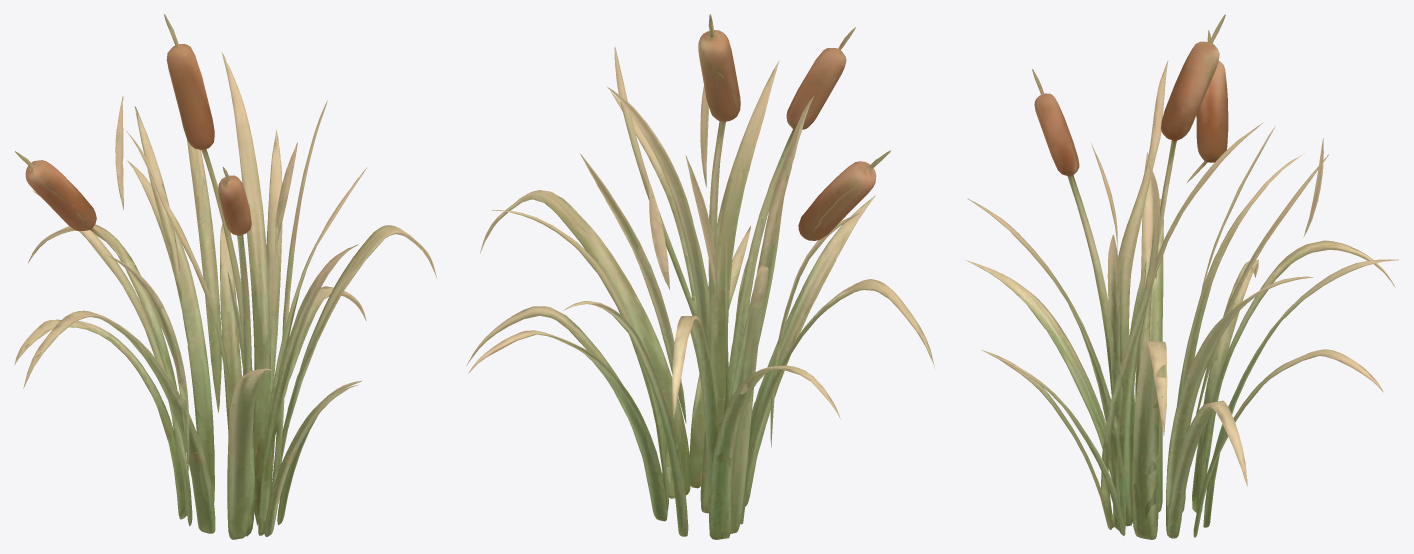
The model's file is reeds.glb.
3 renders of one model, left to right at view 1: azimuth 30°, elevation 25°; view 2: azimuth 150°, elevation 25°; view 3: azimuth 270°, elevation 25°, orthographic. The views are drawn at different scales.
Size of the model in its own units: 1.67 by 1.9 by 1.51.
1 material, 1 textured.
